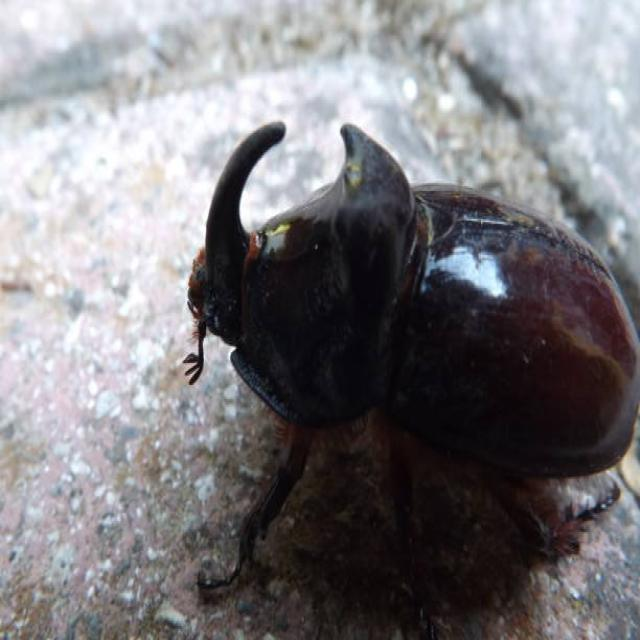Rhino-beetle: (157, 110, 640, 573)
